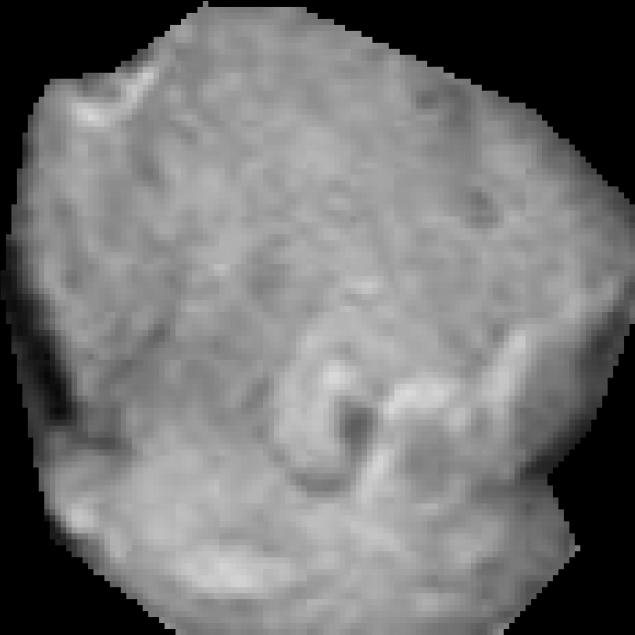tumor_good_chance: (0, 1, 635, 635)
